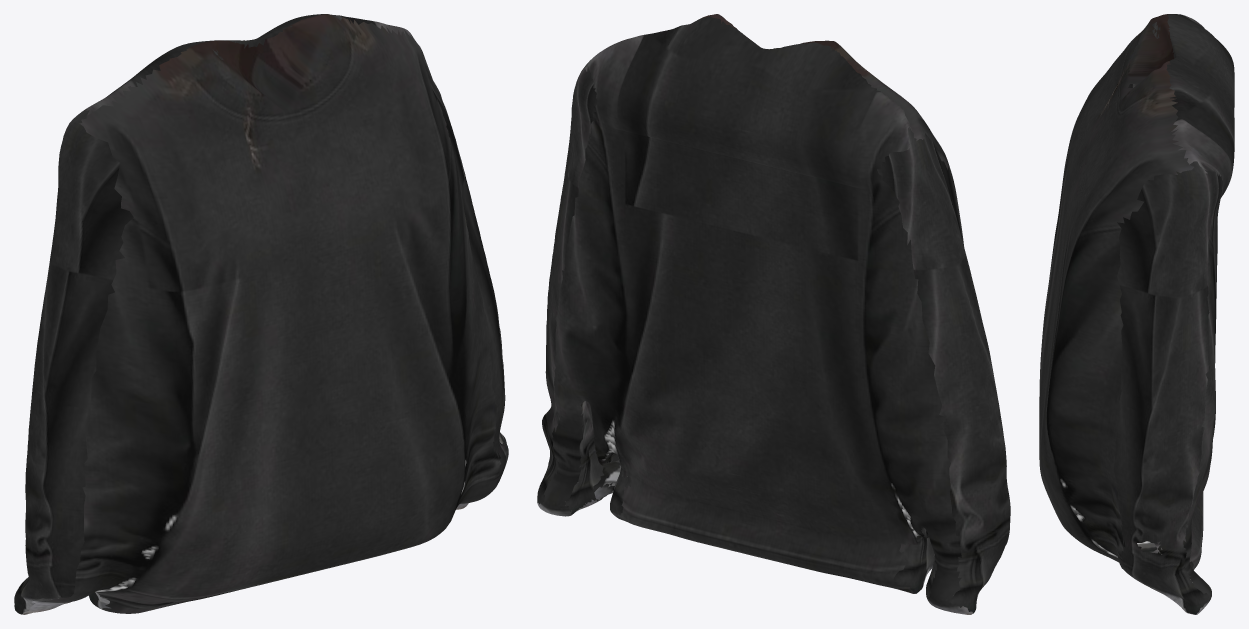
The model's file is NF015-fit-v5.glb.
The picture shows the model from 3 angles, left to right: view 1: azimuth 30°, elevation 25°; view 2: azimuth 150°, elevation 25°; view 3: azimuth 270°, elevation 25°; orthographic projection. The views are drawn at different scales.
Parts seen in each view (by area): view 1: NF015_worn_photo_fitted; view 2: NF015_worn_photo_fitted; view 3: NF015_worn_photo_fitted.
Part boxes in pixels (x1,y1,x2,y2): NF015_worn_photo_fitted: (14,14,508,614); NF015_worn_photo_fitted: (537,14,1010,614); NF015_worn_photo_fitted: (1039,14,1234,614).
Size of the model in its own units: 0.5693 by 0.6167 by 0.2263.
3 materials, 3 textured.
